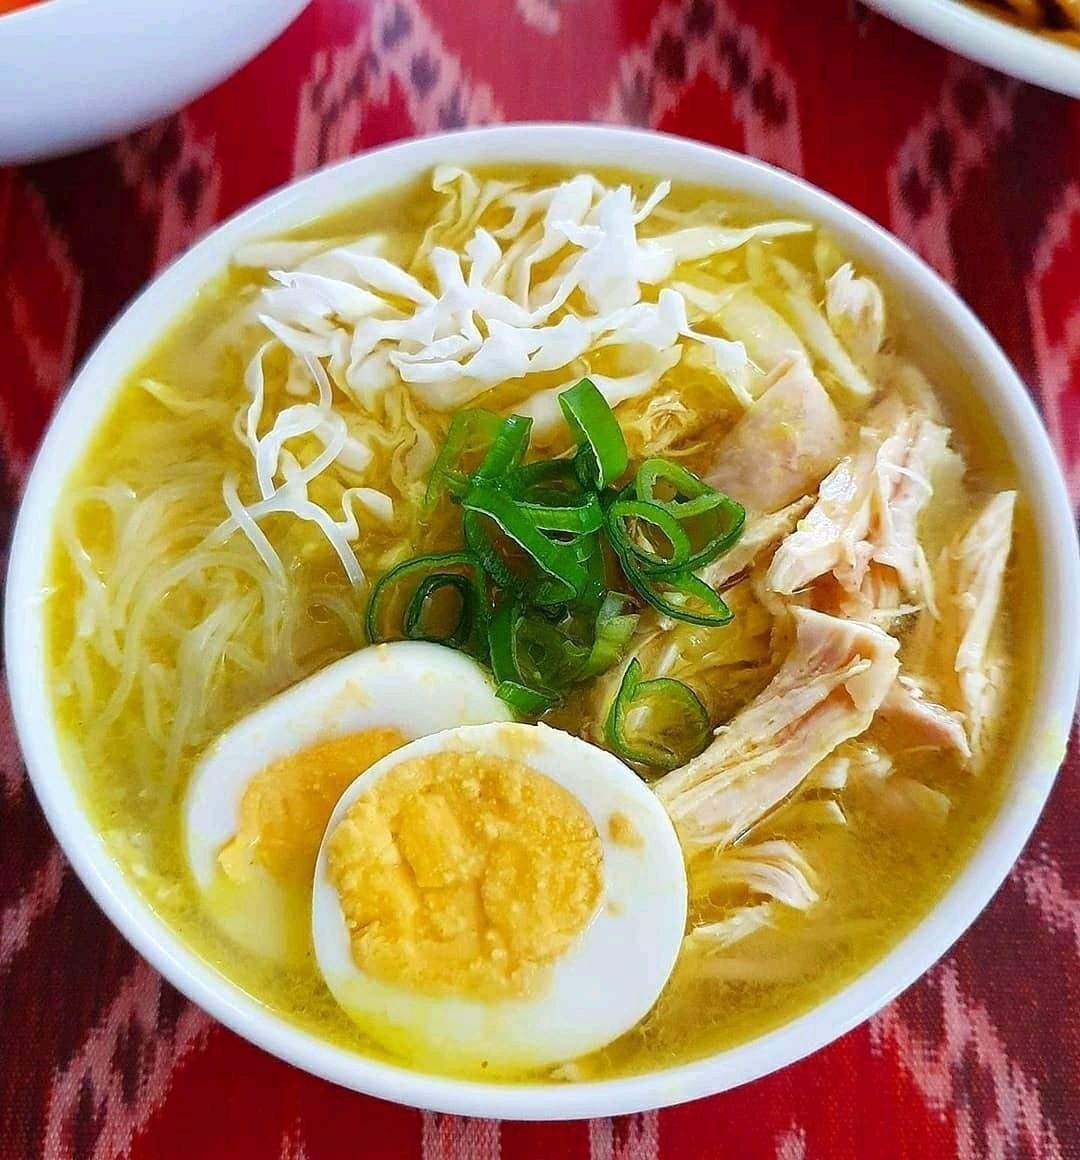soto: (61, 152, 1025, 1093)
